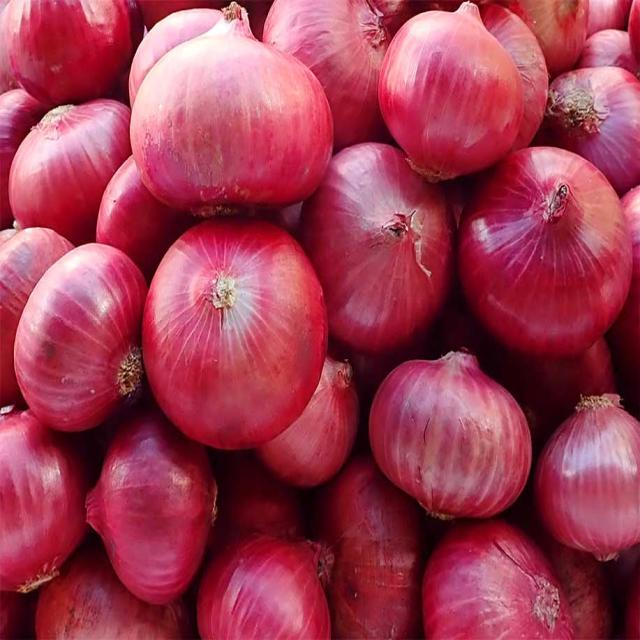Onion: (131, 2, 335, 216), (141, 220, 328, 452), (456, 147, 634, 361), (296, 142, 455, 355), (369, 353, 533, 521), (86, 399, 218, 607), (378, 2, 523, 184), (14, 243, 149, 433), (421, 518, 575, 640), (8, 99, 133, 247), (532, 395, 640, 562), (197, 529, 330, 640), (255, 358, 361, 492)
